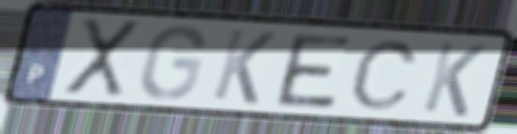C: (347, 37, 422, 112)
E: (274, 32, 356, 112)
G: (136, 22, 210, 102)
K: (208, 26, 279, 108), (418, 38, 489, 120)
X: (61, 16, 144, 100)
